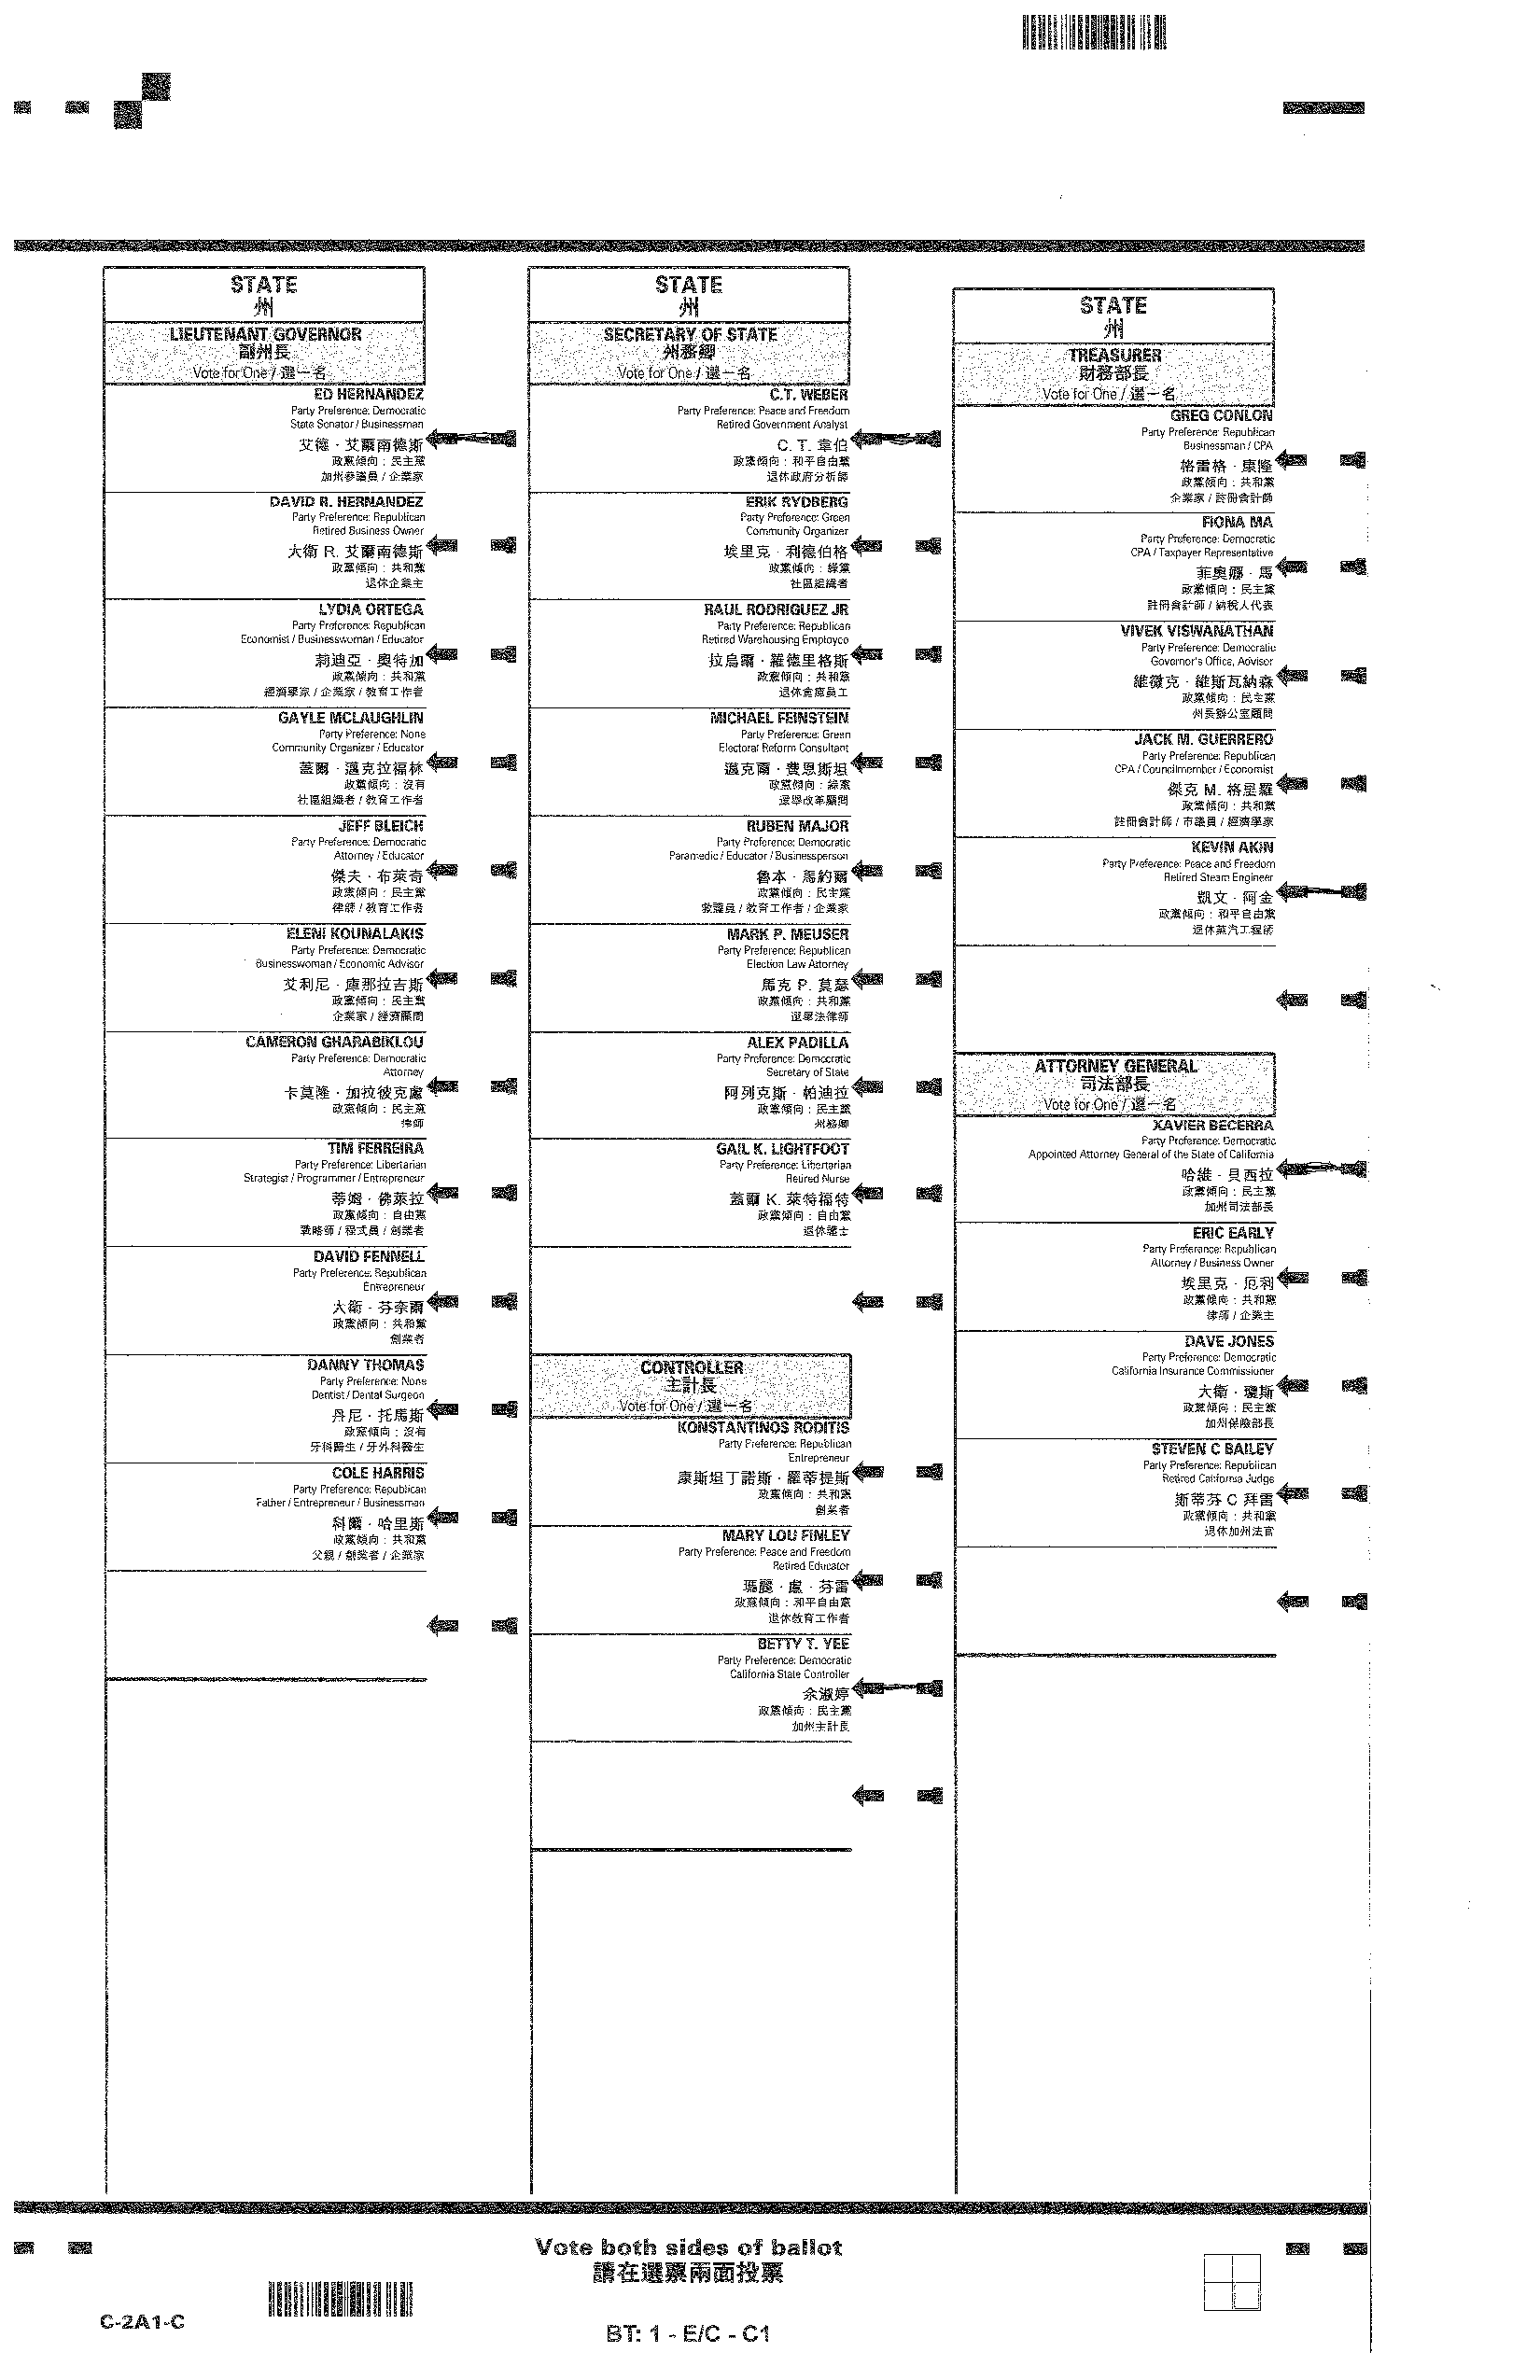marked: (423, 423, 522, 453), (850, 427, 947, 456), (1275, 1155, 1370, 1185), (1276, 879, 1370, 906)
unmarked: (425, 637, 519, 671), (852, 1563, 947, 1596), (1273, 984, 1370, 1015), (852, 1672, 945, 1703), (850, 1287, 949, 1317), (427, 1501, 522, 1530), (848, 964, 943, 994), (425, 963, 519, 989), (1273, 555, 1365, 581), (850, 753, 945, 775)
